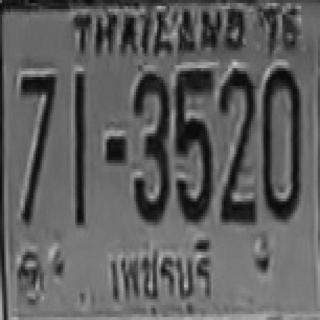P44: (94, 227, 225, 314)
